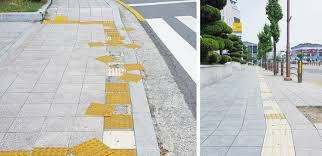guide_blocks: (47, 19, 113, 25)
